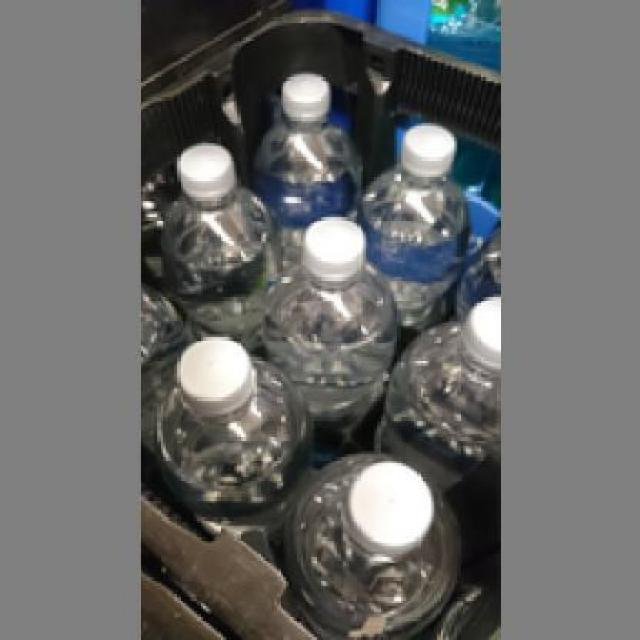Water: (283, 445, 463, 638), (157, 323, 306, 528), (260, 212, 389, 432), (351, 117, 460, 320), (372, 286, 494, 460), (157, 140, 266, 329), (254, 65, 354, 218)
